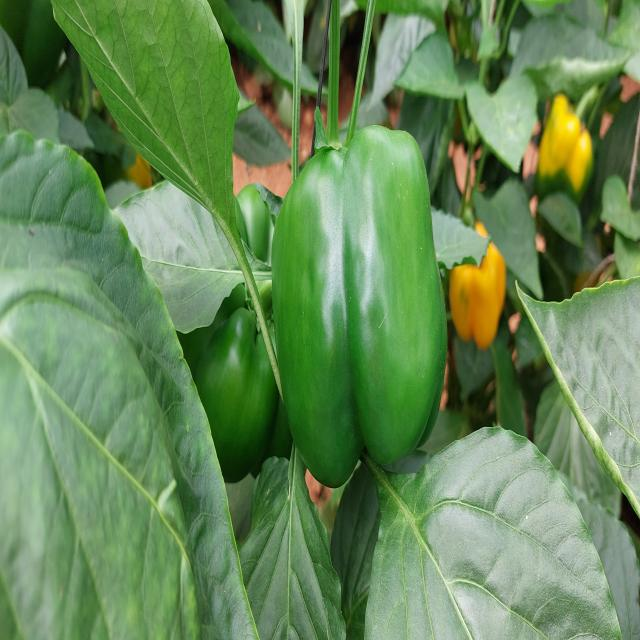Green--Not-ready-to-harvest: (270, 127, 450, 496), (156, 161, 270, 464), (530, 86, 599, 230), (456, 237, 508, 366)
